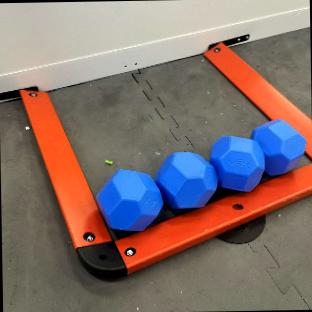V5_BLUE: (98, 170, 160, 230), (155, 151, 216, 208), (252, 119, 305, 174), (210, 135, 263, 190)
